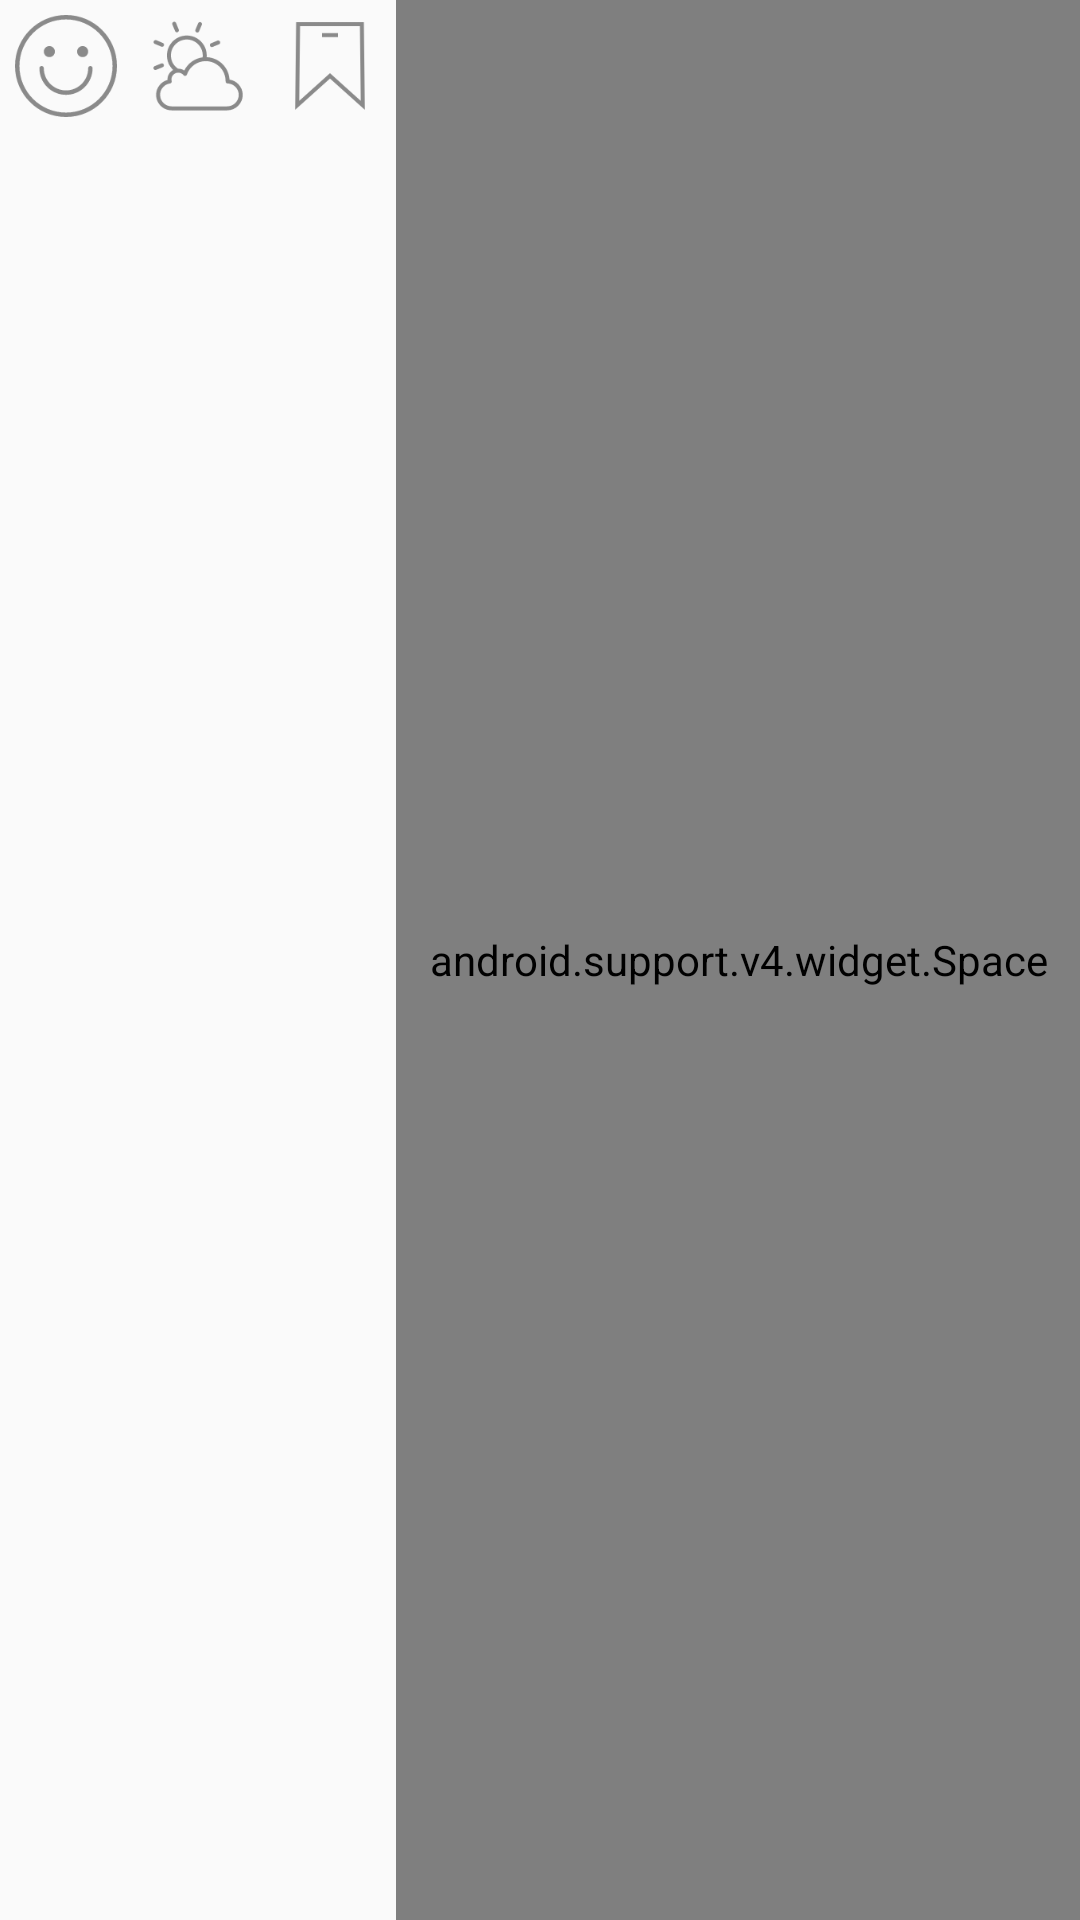

Point at icon controls on the screen. Image size 1080×1920, points as [x,y].
mood: [66,66]
tag: [330,66]
weather: [198,66]
